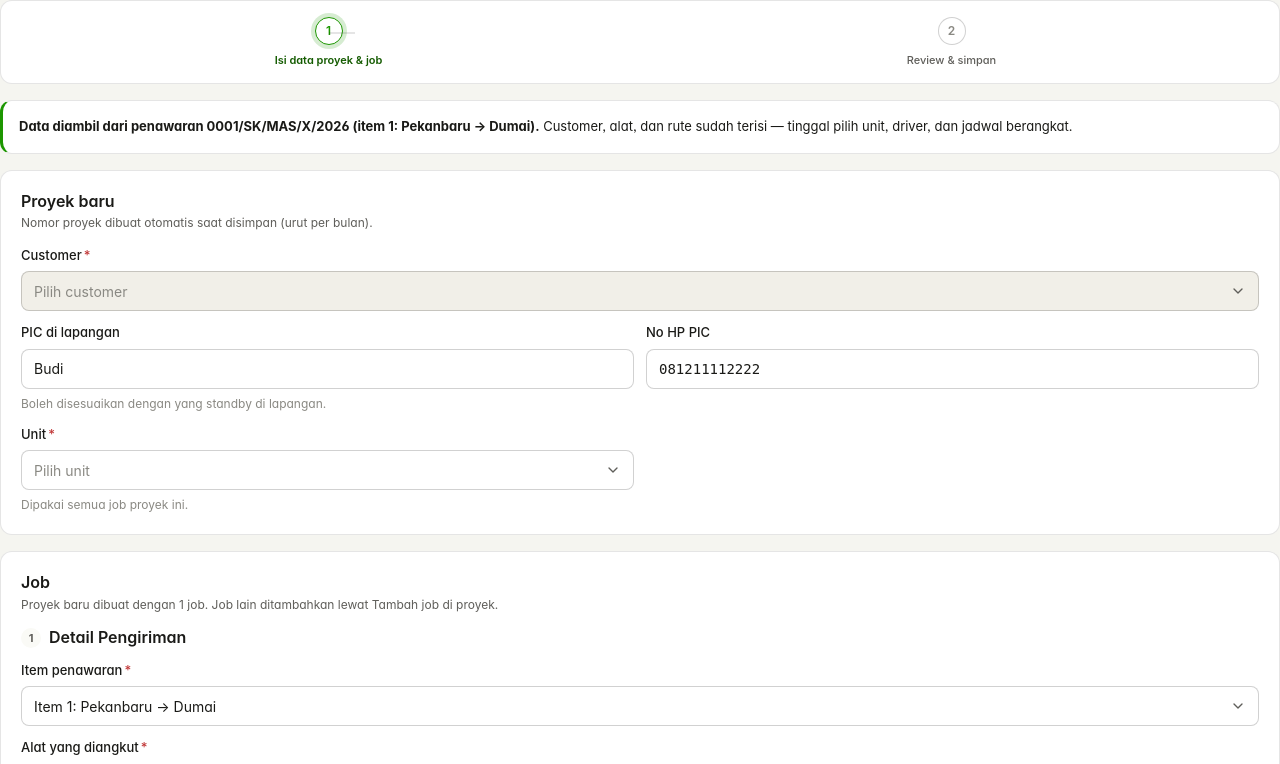
Test: Form proyek dari penawaran: cek gabung saat unit dipilih › pilihan unit hanya unit Stand by
The width and height of the screenshot is (1280, 764).
Click the button with class "combobox-trigger" showing "Pilih unit" at x=62, y=470, box [21,450,634,490]
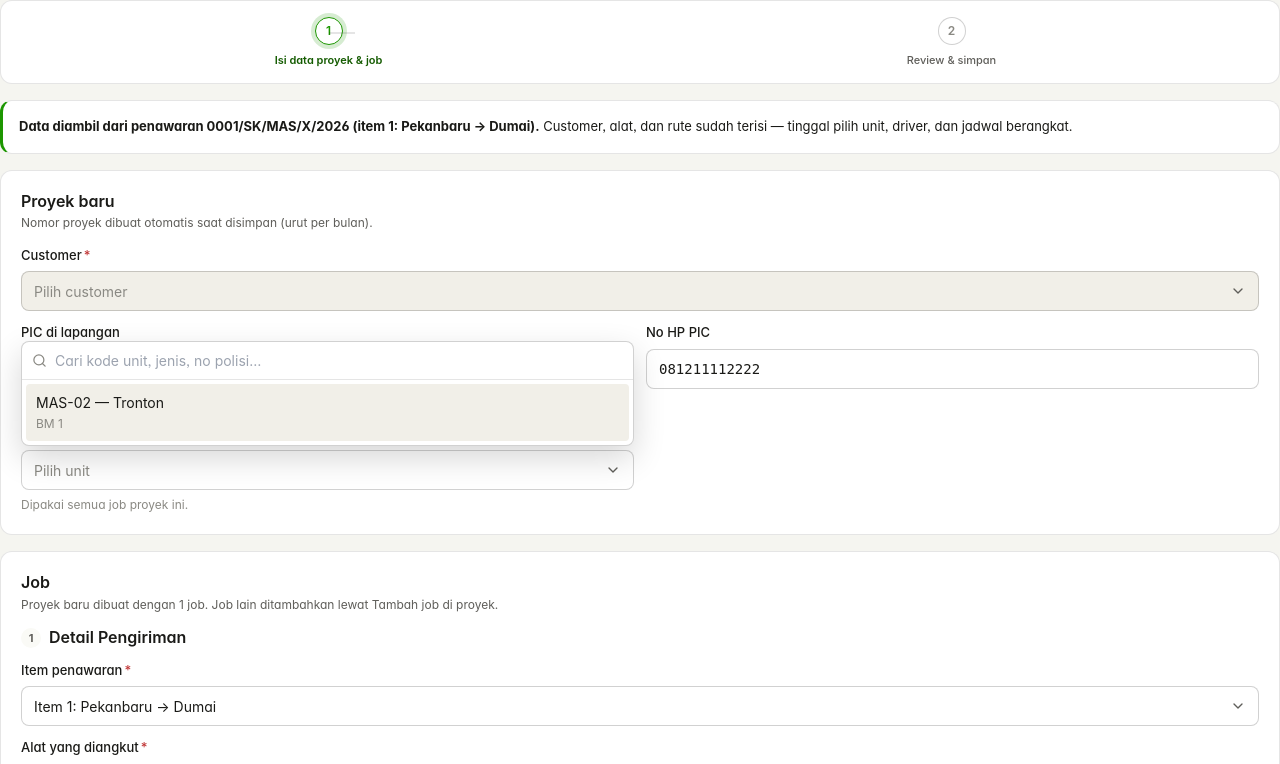
Expected: the list shows "MAS-02", [36,394,164,411]
